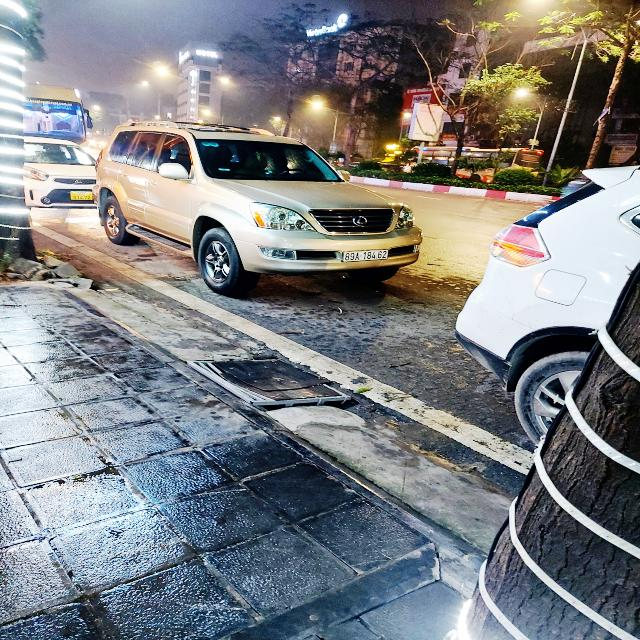license_plate: (344, 250, 389, 263)
